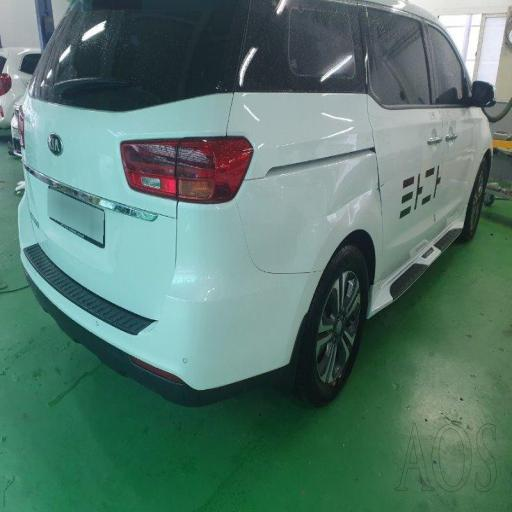dent: (237, 54, 396, 255)
